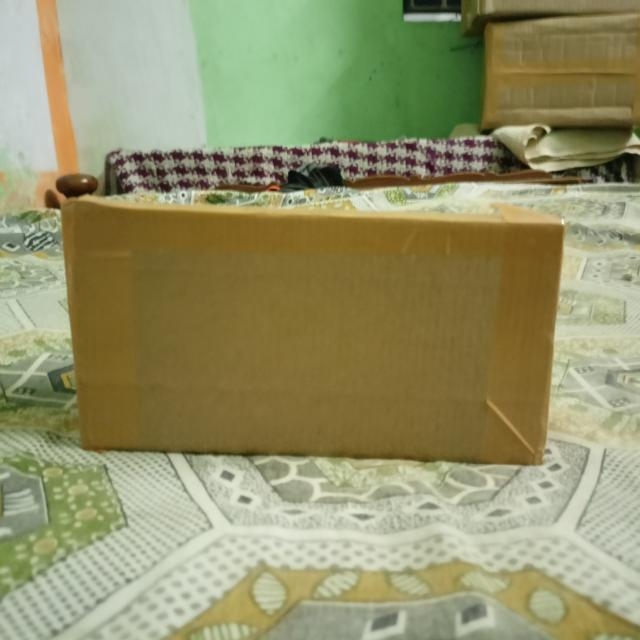box: (64, 202, 567, 464)
